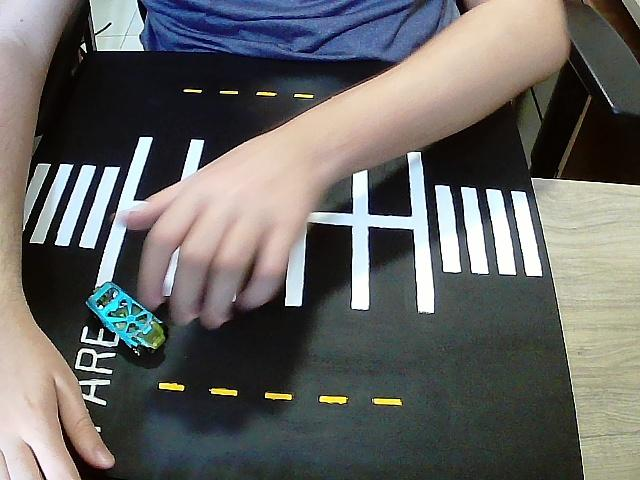Carro: (88, 283, 168, 365)
